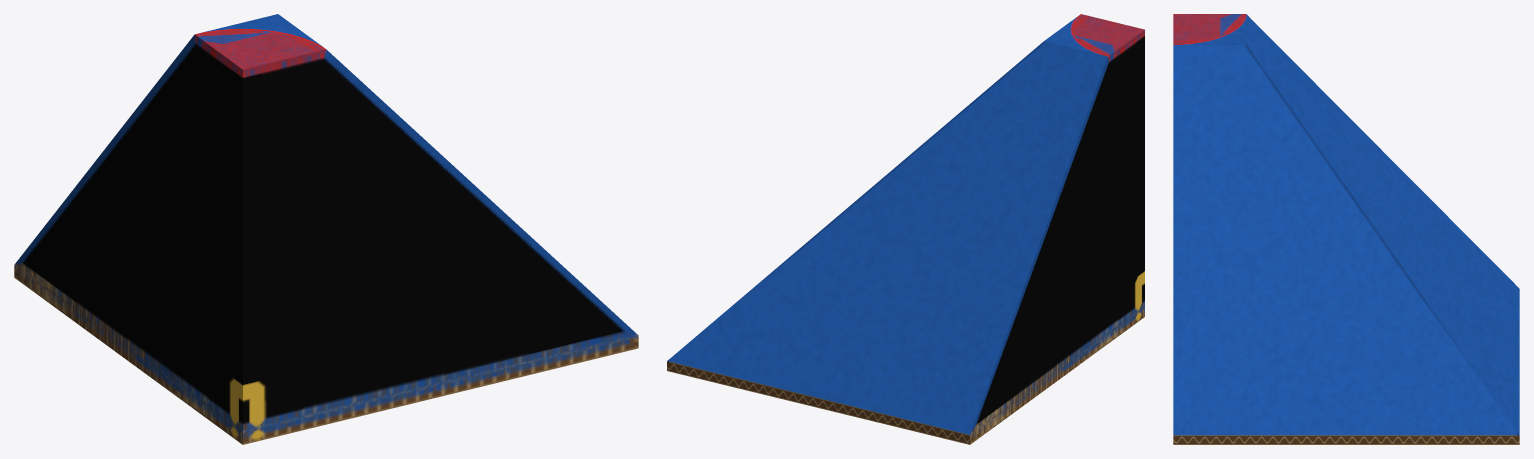
The model's file is 42-roof-back-right.fbx.
The picture shows the model from 3 angles, left to right: view 1: azimuth 30°, elevation 25°; view 2: azimuth 150°, elevation 25°; view 3: azimuth 270°, elevation 25°; orthographic projection. The views are drawn at different scales.
Parts seen in each view (by area): view 1: roof-back-right; view 2: roof-back-right; view 3: roof-back-right.
Part boxes in pixels (box(x1,y1,x2,y2)): roof-back-right: box(14, 14, 638, 444); roof-back-right: box(667, 14, 1144, 444); roof-back-right: box(1173, 14, 1519, 444).
Bounding box in the file's own units: 6400 × 5800 × 6400.
1 material, 1 textured.
